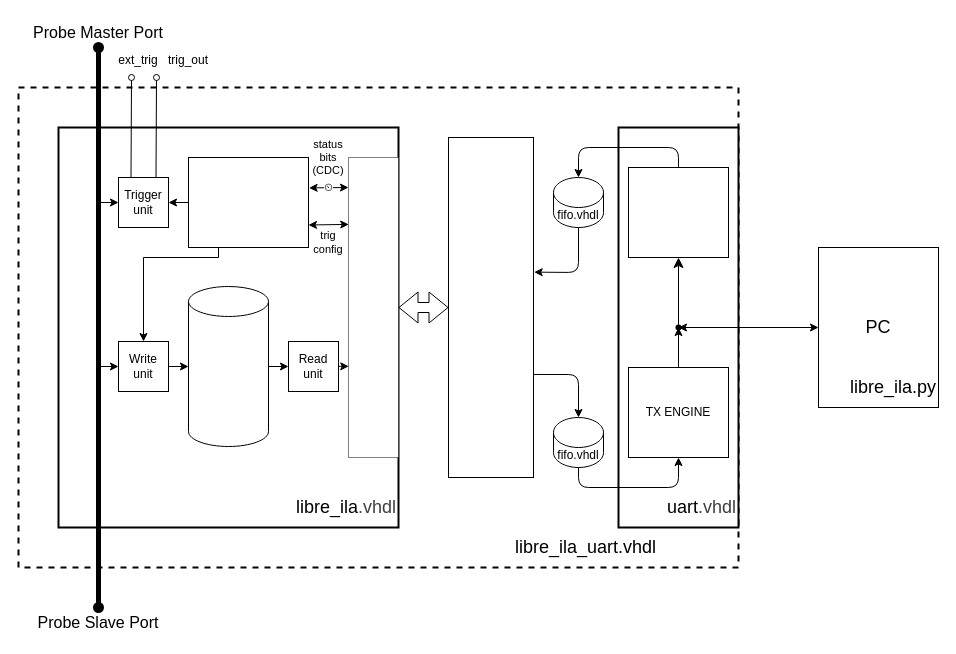
Image size: 956x654. Some labels were removed from this diagram. The centre of each missing label's shape, as x and y in pixels:
"AXI Lite Interface" goes at (373,307).
"Control unit" goes at (248,202).
"RX ENGINE" goes at (678,212).
"UART to AXILite adapter" goes at (491,307).
